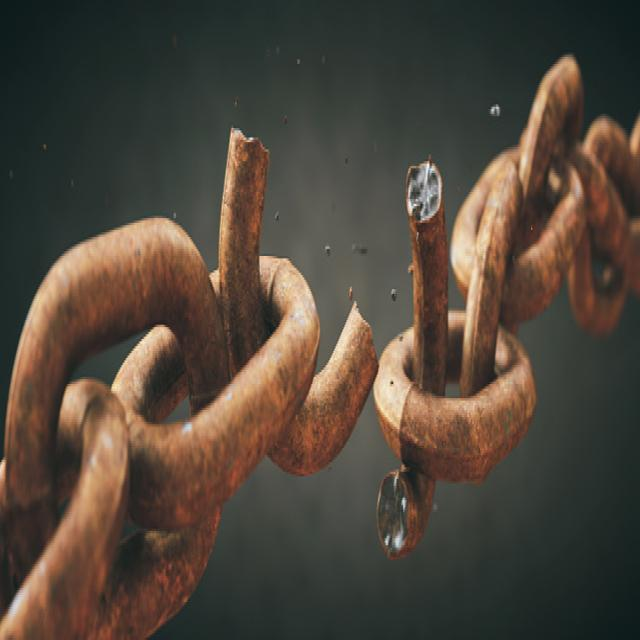corrosion: (2, 124, 376, 640), (374, 55, 640, 564), (407, 156, 443, 230), (378, 475, 411, 553)
